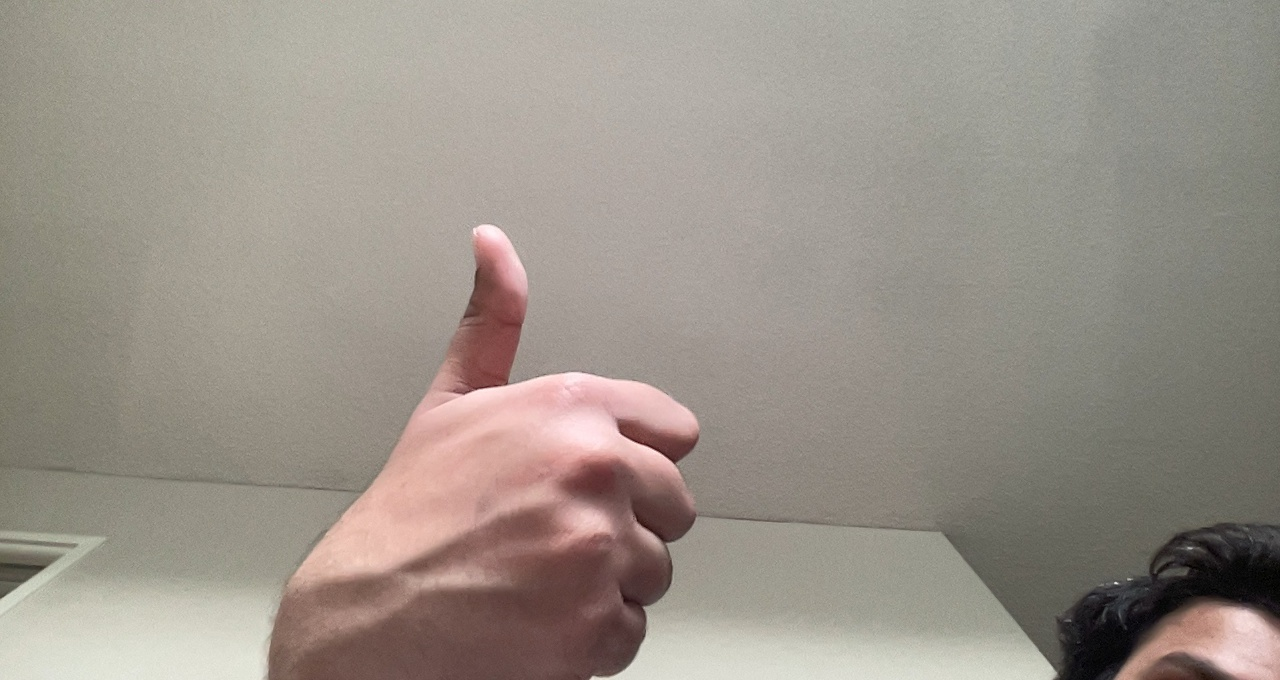thumbsup: (372, 208, 718, 668)
